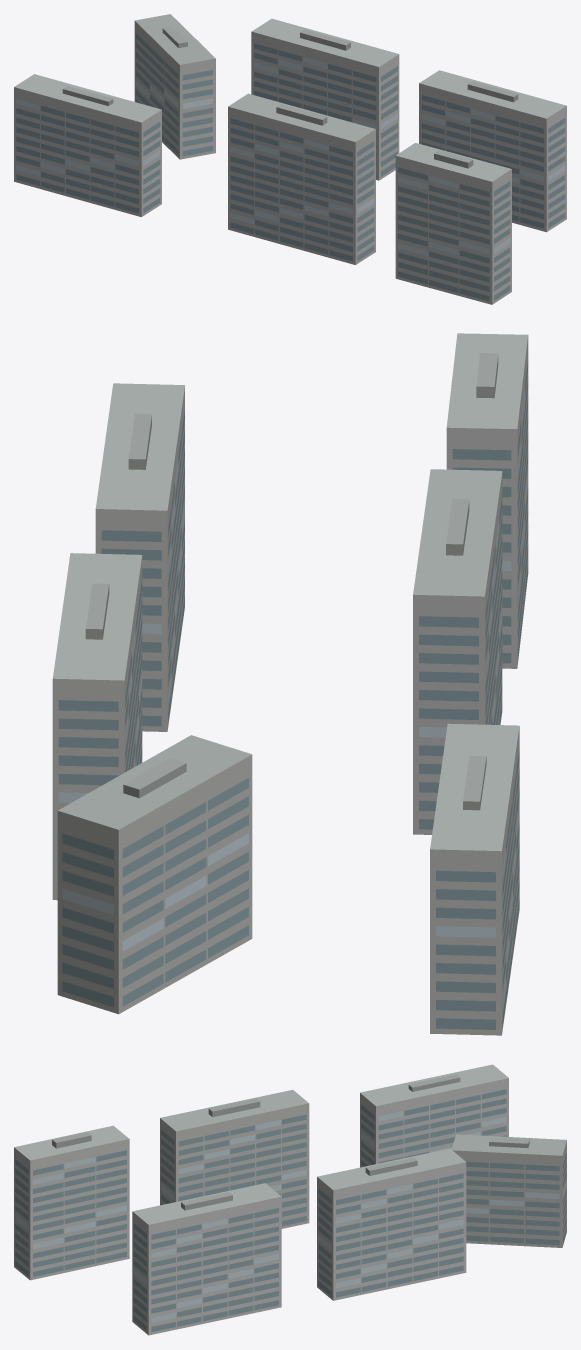
Rendered from apt-a13519001.glb.
3 views of the same model, one above another, from view 1: azimuth 30°, elevation 25°; view 2: azimuth 150°, elevation 25°; view 3: azimuth 270°, elevation 25° (orthographic). The views are drawn at different scales.
Parts seen in each view (by area): view 1: apt-a13519001; view 2: apt-a13519001; view 3: apt-a13519001.
Part boxes in pixels (left/top/right/bottom): apt-a13519001: left=14, top=14, right=566, bottom=304; apt-a13519001: left=52, top=333, right=528, bottom=1035; apt-a13519001: left=14, top=1064, right=566, bottom=1335.
Bounding box in the file's own units: 119 × 39 × 156.
